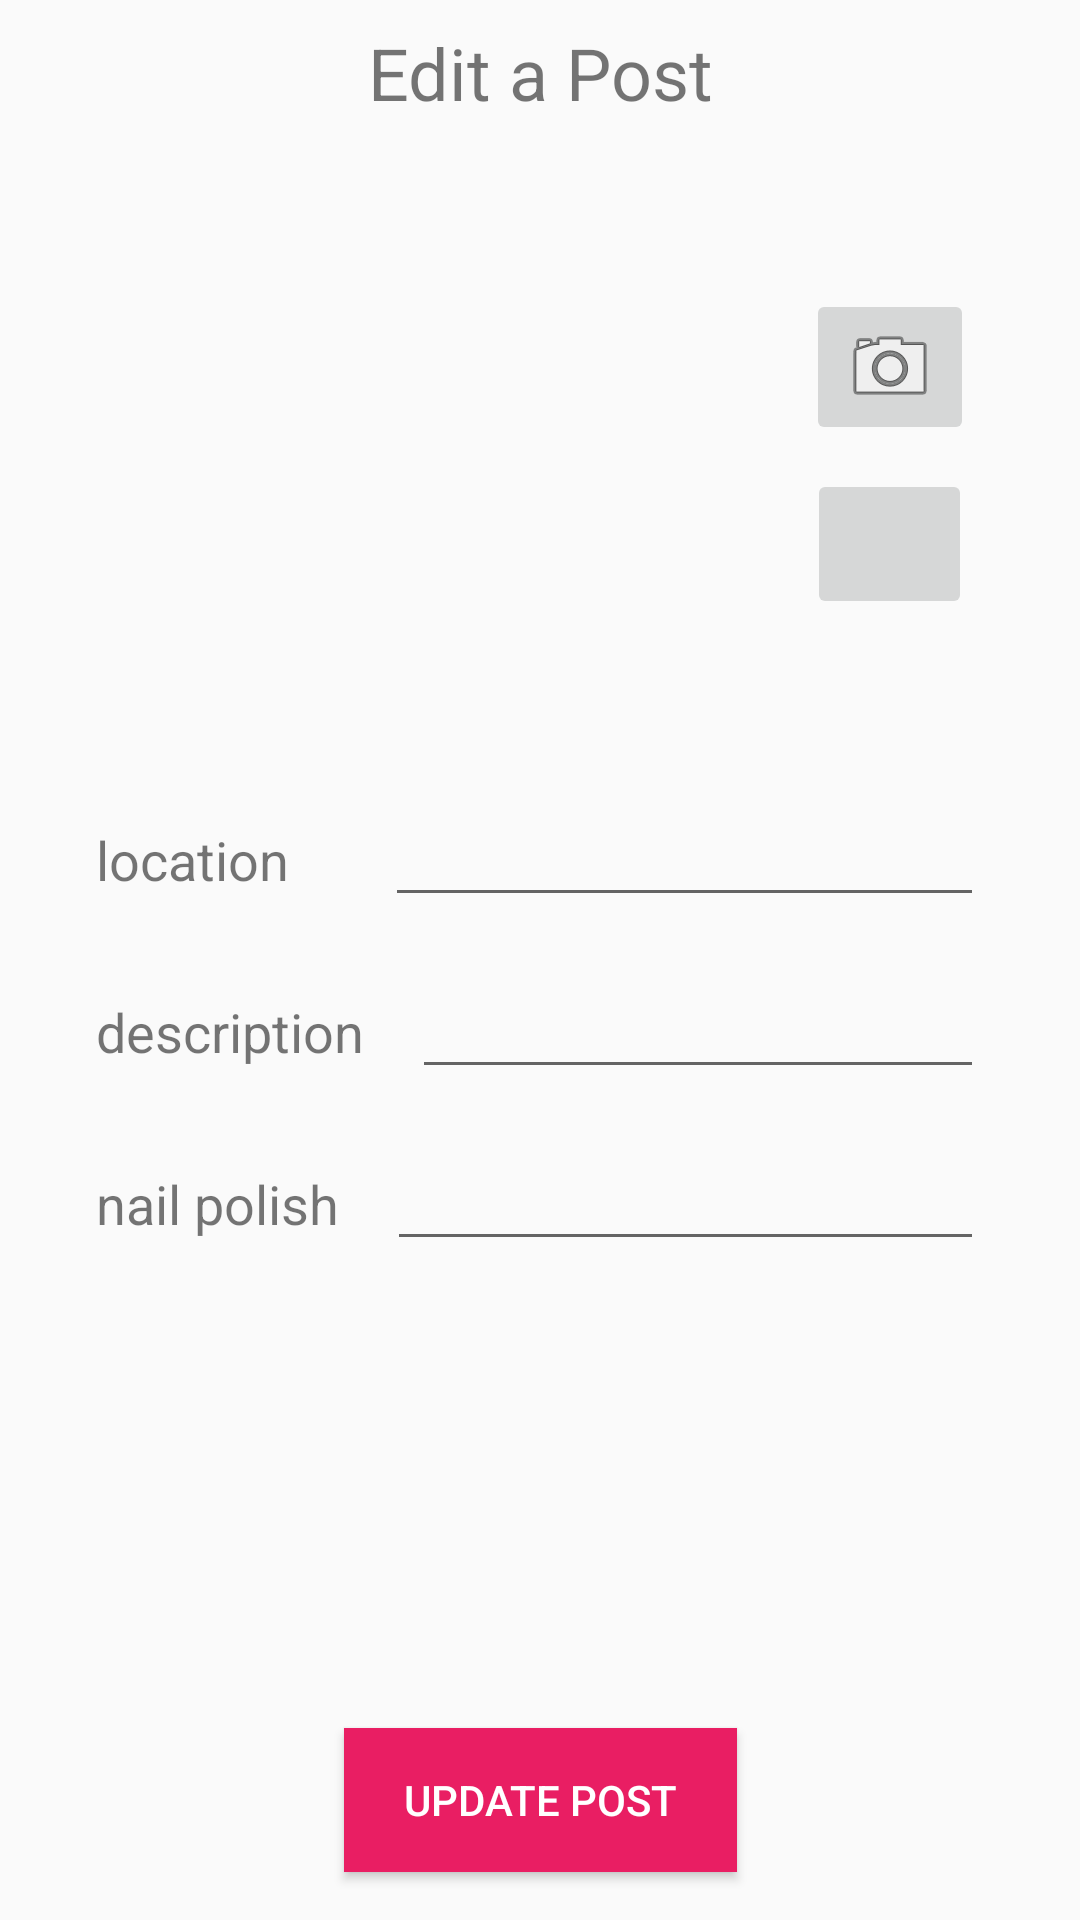

Named icons in this screenshot (1080px x 1920px) and their bounding boxes, bbox=[x1, y1, x2, y2]:
camera: bbox=[818, 307, 962, 427]
